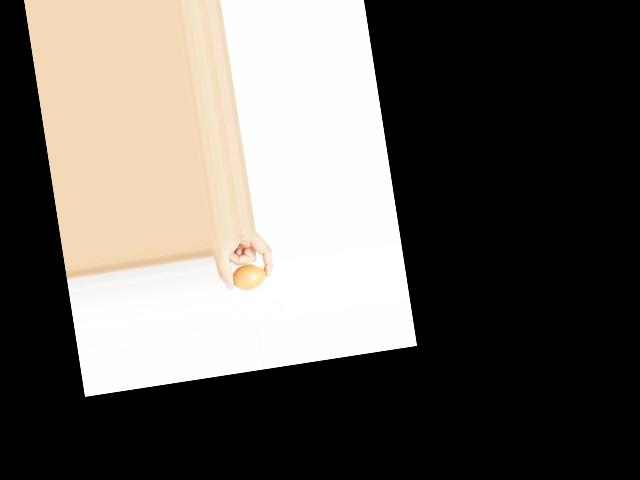egg: (231, 261, 268, 293)
